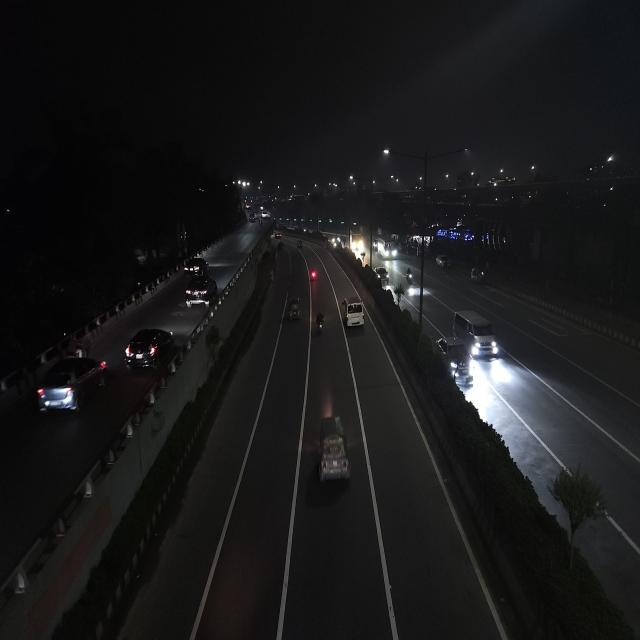bus: (377, 231, 401, 261), (350, 225, 364, 252)
car: (34, 355, 109, 418), (452, 307, 501, 361), (122, 326, 178, 371), (435, 335, 474, 387), (183, 275, 215, 308), (343, 295, 365, 331), (183, 256, 210, 276), (375, 264, 391, 291), (434, 253, 452, 271), (274, 232, 283, 239)
cng: (311, 413, 355, 494), (287, 296, 302, 323), (468, 265, 486, 284)
motorcycle: (65, 337, 87, 359), (314, 310, 326, 335), (404, 266, 414, 286), (308, 263, 318, 282), (295, 238, 304, 250)
